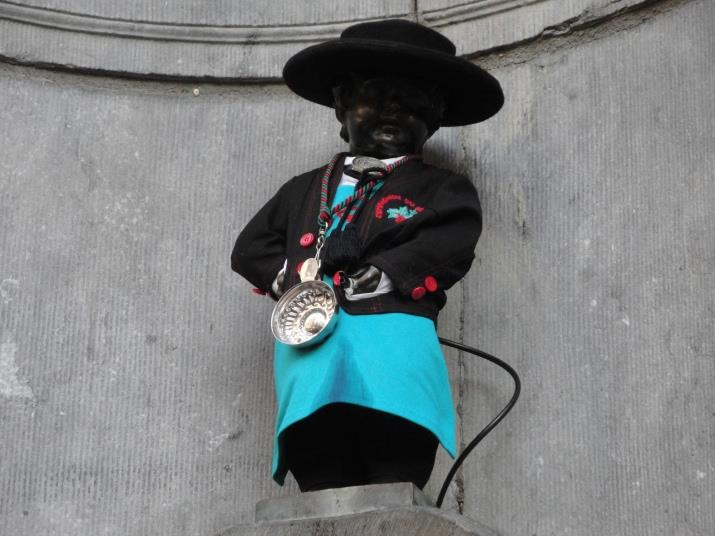Manneken_Pis: (250, 27, 489, 491)
